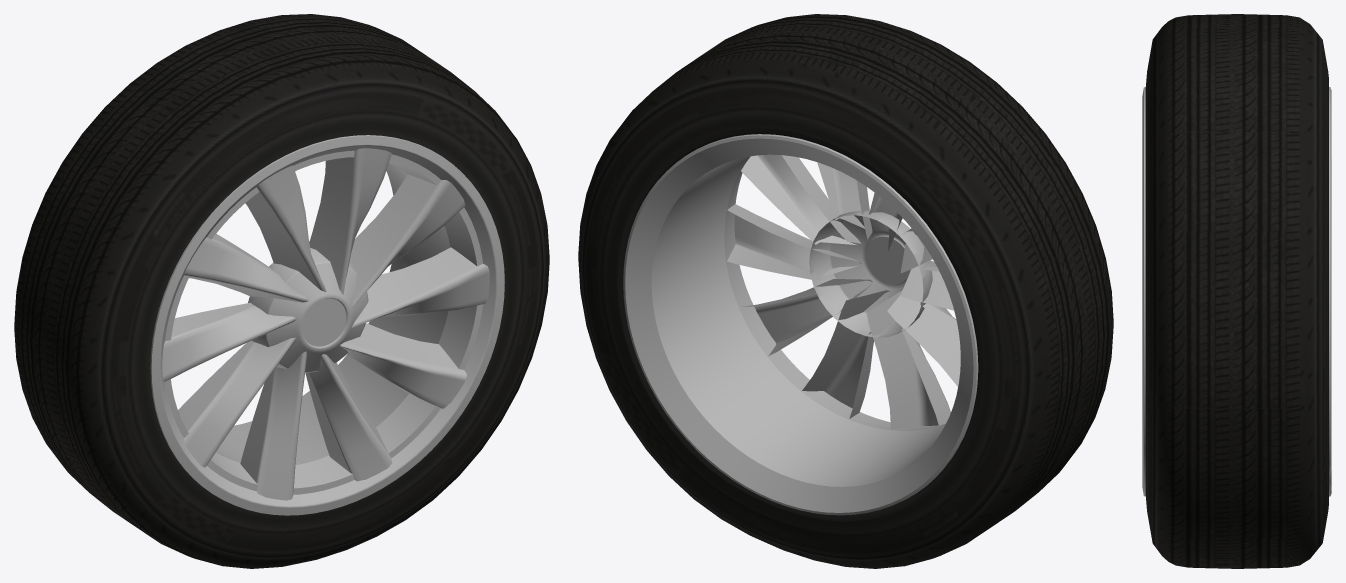
3 renders of one model, left to right at view 1: azimuth 30°, elevation 25°; view 2: azimuth 150°, elevation 25°; view 3: azimuth 270°, elevation 25°, orthographic.
Parts seen in each view (by area): view 1: _6139_18_901B_R__6139_18_901B_R_2_DM, _6139_18_901B_R_1_DaS__6139_18_901B_R; view 2: _6139_18_901B_R__6139_18_901B_R_2_DM, _6139_18_901B_R_1_DaS__6139_18_901B_R; view 3: _6139_18_901B_R__6139_18_901B_R_2_DM, _6139_18_901B_R_1_DaS__6139_18_901B_R.
Boxes of the visible parts, x1=… form: _6139_18_901B_R__6139_18_901B_R_2_DM: x1=14, y1=14, x2=549, y2=568; _6139_18_901B_R_1_DaS__6139_18_901B_R: x1=150, y1=135, x2=504, y2=515; _6139_18_901B_R__6139_18_901B_R_2_DM: x1=578, y1=14, x2=1113, y2=568; _6139_18_901B_R_1_DaS__6139_18_901B_R: x1=623, y1=134, x2=978, y2=515; _6139_18_901B_R__6139_18_901B_R_2_DM: x1=1145, y1=14, x2=1328, y2=568; _6139_18_901B_R_1_DaS__6139_18_901B_R: x1=1142, y1=87, x2=1331, y2=496.
Bounding box in the file's own units: 65.55 × 65.48 × 22.33.
